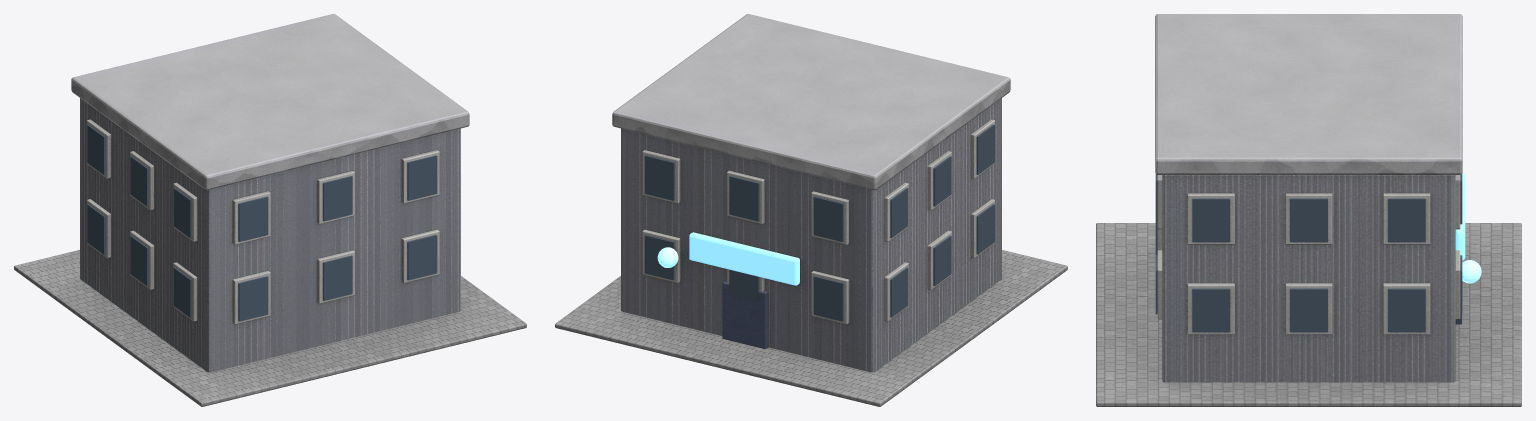
The model's file is polizeiwache.glb.
3 views of the same model, side by side, from view 1: azimuth 30°, elevation 25°; view 2: azimuth 150°, elevation 25°; view 3: azimuth 270°, elevation 25° (orthographic). The views are drawn at different scales.
Visible parts, largest first — view 1: polizeiwache, polizeiwache_details; view 2: polizeiwache, polizeiwache_details; view 3: polizeiwache, polizeiwache_details.
Part boxes in pixels (<box>): polizeiwache: <box>14,14,526,406</box>; polizeiwache_details: <box>87,124,437,321</box>; polizeiwache: <box>555,14,1067,406</box>; polizeiwache_details: <box>644,124,994,321</box>; polizeiwache: <box>1096,14,1521,406</box>; polizeiwache_details: <box>1155,173,1481,332</box>.
Size of the model in its own units: 0.9 by 0.54 by 0.9.
4 materials, 1 textured.
